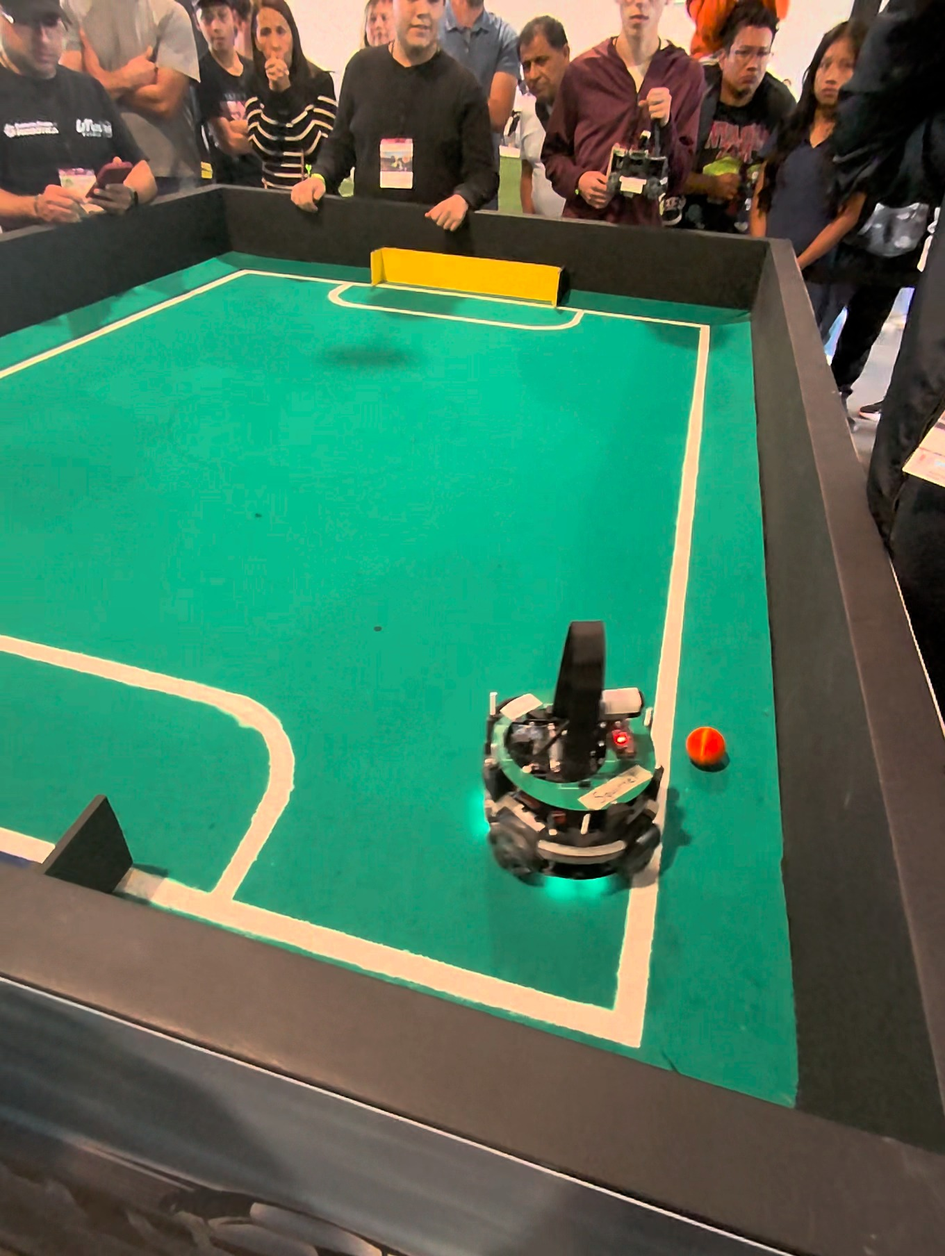Robot: (478, 616, 659, 906)
pelota: (682, 726, 727, 772)
